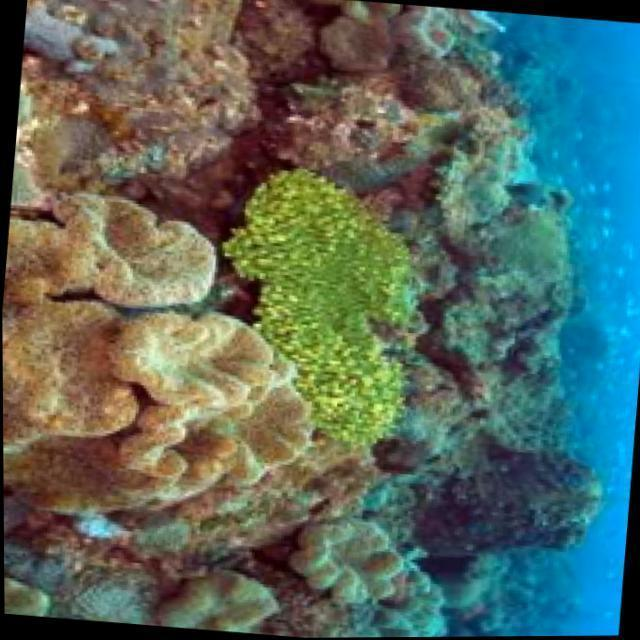Dead Coral: (1, 193, 305, 520), (28, 0, 271, 188), (427, 430, 613, 587), (292, 496, 438, 612)
